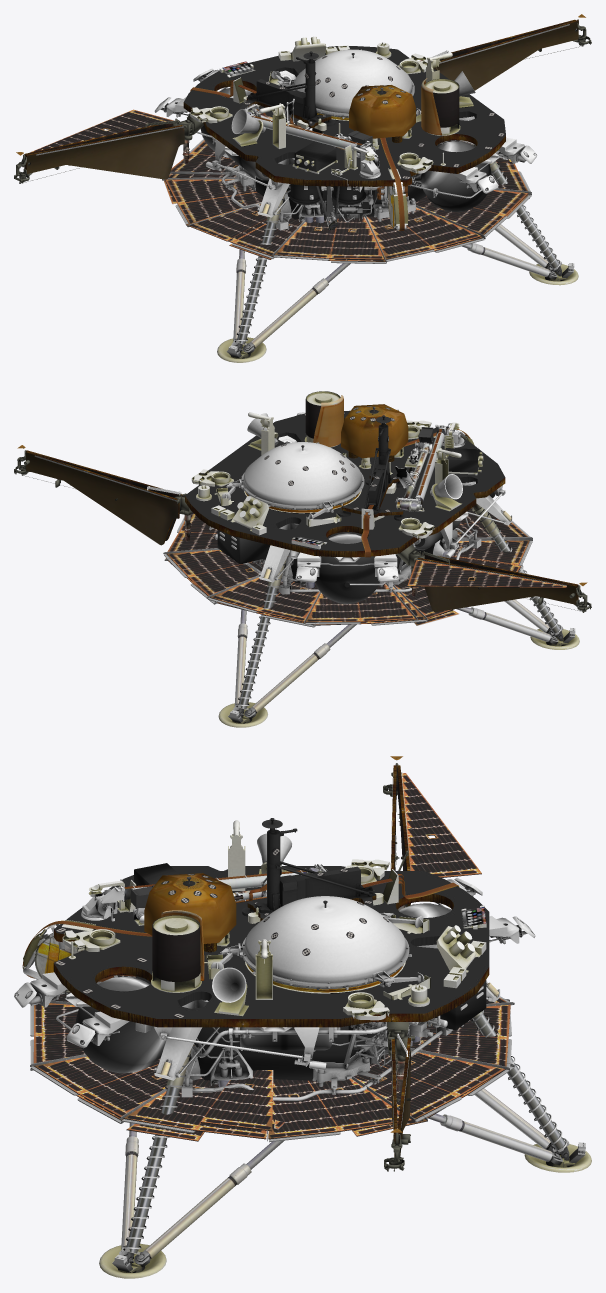
The model's file is nasa-insight-landed.glb.
The picture shows the model from 3 angles, top to bottom: view 1: azimuth 30°, elevation 25°; view 2: azimuth 150°, elevation 25°; view 3: azimuth 270°, elevation 25°; orthographic projection. The views are drawn at different scales.
Visible parts, largest first — view 1: deck, panel_l.019, panel_l_root, leg_b, WTS, SEIS, HP3_v3d_baked, pressure_inlet, UHF_antenna, Cube.054, Cube.046, arm_02 (+2 smaller); view 2: deck, panel_l.019, panel_l_root, leg_b, WTS, SEIS, Cube.046, pressure_inlet, HP3_v3d_baked, UHF_antenna, arm_02, arm_01; view 3: deck, panel_l.019, leg_b, WTS, HP3_v3d_baked, Cube.046, SEIS, UHF_antenna, pressure_inlet, Cube.054, panel_l_root, arm_02 (+2 smaller).
Part boxes in pixels (bbox=[...]): deck: bbox=[154, 36, 537, 230]; panel_l.019: bbox=[162, 139, 531, 263]; panel_l_root: bbox=[14, 14, 591, 183]; leg_b: bbox=[217, 144, 578, 362]; WTS: bbox=[277, 49, 414, 118]; SEIS: bbox=[349, 85, 415, 142]; HP3_v3d_baked: bbox=[239, 51, 335, 128]; pressure_inlet: bbox=[231, 52, 475, 148]; UHF_antenna: bbox=[421, 78, 460, 135]; Cube.054: bbox=[186, 158, 529, 259]; Cube.046: bbox=[30, 109, 173, 152]; arm_02: bbox=[243, 98, 378, 165]; deck: bbox=[179, 409, 512, 604]; panel_l.019: bbox=[163, 508, 532, 627]; panel_l_root: bbox=[14, 445, 591, 612]; leg_b: bbox=[218, 503, 579, 727]; WTS: bbox=[226, 442, 364, 512]; SEIS: bbox=[341, 404, 408, 462]; Cube.046: bbox=[165, 558, 566, 587]; pressure_inlet: bbox=[247, 412, 462, 511]; HP3_v3d_baked: bbox=[337, 415, 407, 520]; UHF_antenna: bbox=[304, 391, 343, 447]; arm_02: bbox=[395, 424, 448, 511]; arm_01: bbox=[408, 423, 464, 464]; deck: bbox=[14, 859, 535, 1100]; panel_l.019: bbox=[30, 975, 514, 1142]; leg_b: bbox=[99, 1010, 591, 1278]; WTS: bbox=[220, 896, 411, 989]; HP3_v3d_baked: bbox=[242, 818, 376, 925]; Cube.046: bbox=[339, 773, 481, 1136]; SEIS: bbox=[144, 873, 236, 952]; UHF_antenna: bbox=[151, 910, 204, 992]; pressure_inlet: bbox=[212, 820, 291, 1016]; Cube.054: bbox=[126, 1070, 273, 1141]; panel_l_root: bbox=[383, 756, 414, 1171]; arm_02: bbox=[95, 864, 327, 923].
Bounding box in the file's own units: 3.99 × 1.58 × 2.56.
Materials: 17 (14 with a texture image).
